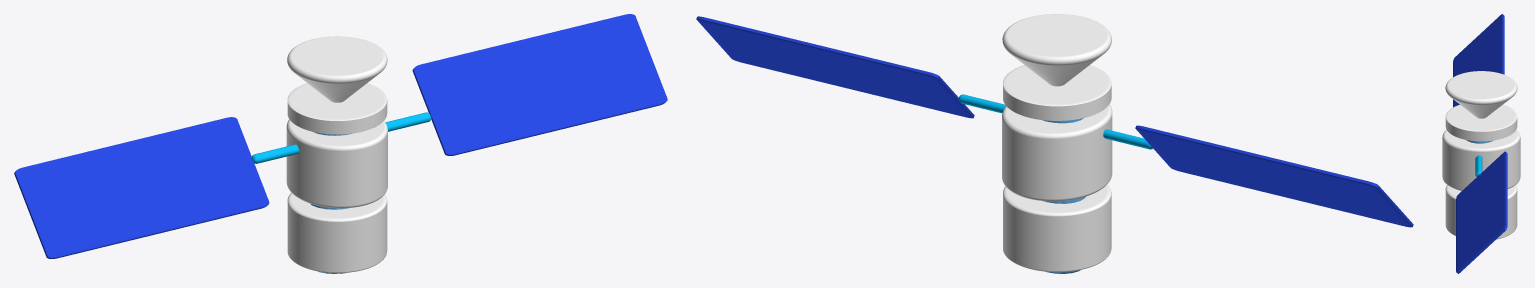
3 views of the same model, side by side, from view 1: azimuth 30°, elevation 25°; view 2: azimuth 150°, elevation 25°; view 3: azimuth 270°, elevation 25° (orthographic). The views are drawn at different scales.
Parts seen in each view (by area): view 1: right, left, center, bottom, Cone, Cylinder, connect-lie; view 2: right, left, center, bottom, Cone, Cylinder, connect-lie; view 3: left, center, Cone, Cylinder, right, bottom, connect-lie, inner.
Part boxes in pixels (x1,y1,x2,y2): right: (14, 117, 269, 258); left: (412, 14, 667, 155); center: (286, 119, 387, 208); bottom: (287, 192, 387, 273); Cone: (287, 36, 387, 102); Cylinder: (287, 83, 387, 134); connect-lie: (252, 112, 431, 163); right: (1135, 125, 1413, 227); left: (696, 16, 974, 118); center: (1002, 104, 1112, 201); bottom: (1003, 184, 1111, 272); Cone: (1002, 14, 1111, 86); Cylinder: (1003, 65, 1111, 120); connect-lie: (958, 94, 1152, 149); left: (1456, 151, 1507, 273); center: (1442, 130, 1520, 190); Cone: (1445, 71, 1517, 118); Cylinder: (1445, 104, 1517, 141); right: (1453, 14, 1504, 107); bottom: (1445, 185, 1517, 239); connect-lie: (1475, 155, 1482, 176); inner: (1466, 140, 1492, 143).
Size of the model in its own units: 0.7204 by 0.23 by 0.109.
